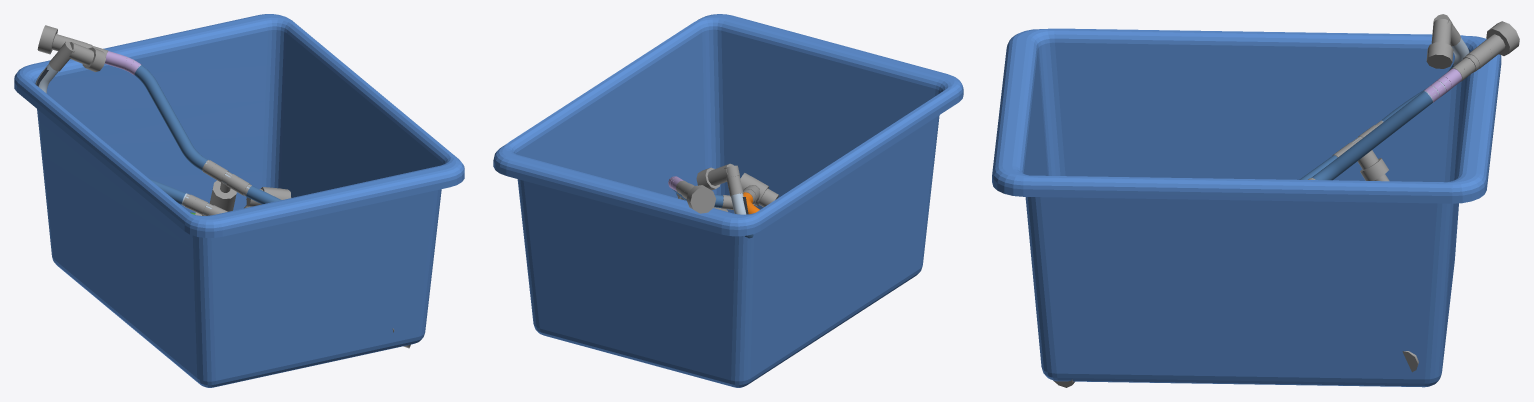
3 views of the same model, side by side, from view 1: azimuth 30°, elevation 25°; view 2: azimuth 150°, elevation 25°; view 3: azimuth 270°, elevation 25° (orthographic). The views are drawn at different scales.
Visible parts, largest first — view 1: bin, tube_0_AB, tube_1_AB; view 2: bin, tube_1_AB, tube_0_AB, tube_2_X; view 3: bin, tube_0_AB, tube_1_AB.
Part boxes in pixels (bbox=[...]): bin: bbox=[14, 14, 464, 387]; tube_0_AB: bbox=[37, 25, 394, 332]; tube_1_AB: bbox=[35, 41, 410, 348]; bin: bbox=[493, 14, 963, 387]; tube_1_AB: bbox=[696, 163, 753, 238]; tube_0_AB: bbox=[668, 176, 753, 213]; tube_2_X: bbox=[740, 173, 778, 214]; bin: bbox=[992, 28, 1501, 387]; tube_0_AB: bbox=[1308, 21, 1519, 180]; tube_1_AB: bbox=[1053, 14, 1469, 387].
Size of the model in its own units: 0.3087 by 0.241 by 0.4224.
